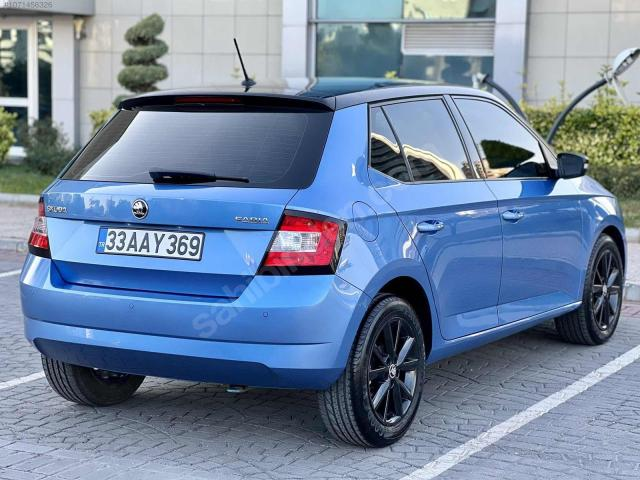plaka: (96, 228, 204, 260)
